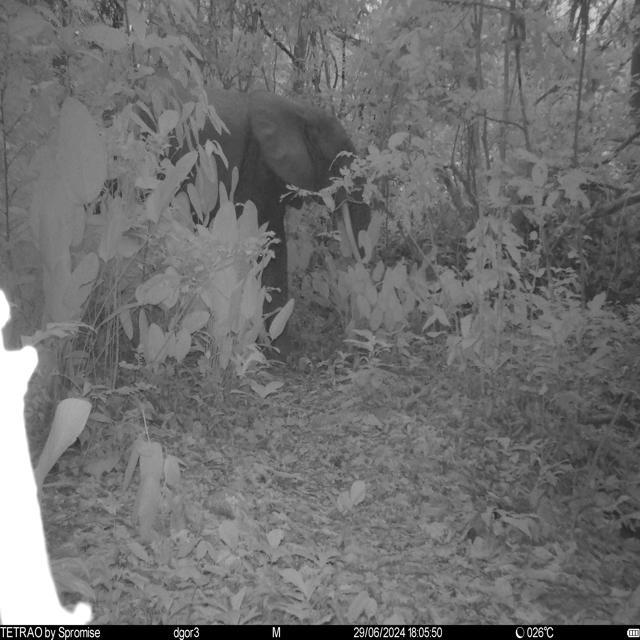ear: (248, 90, 316, 196)
elephant: (132, 67, 369, 346)
tusk: (340, 200, 365, 268)
